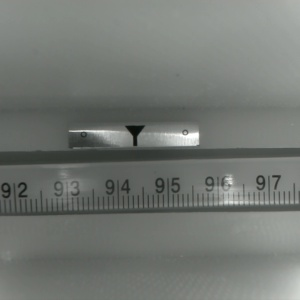2: (17, 183, 28, 198)
3: (69, 181, 79, 196)
4: (120, 179, 130, 194)
5: (170, 177, 180, 193)
6: (221, 175, 232, 191)
7: (271, 175, 281, 190)
9: (204, 176, 215, 192), (0, 183, 11, 198), (104, 179, 114, 195), (154, 177, 164, 193), (255, 175, 265, 190), (52, 182, 62, 196)
finger: (123, 126, 145, 147)
